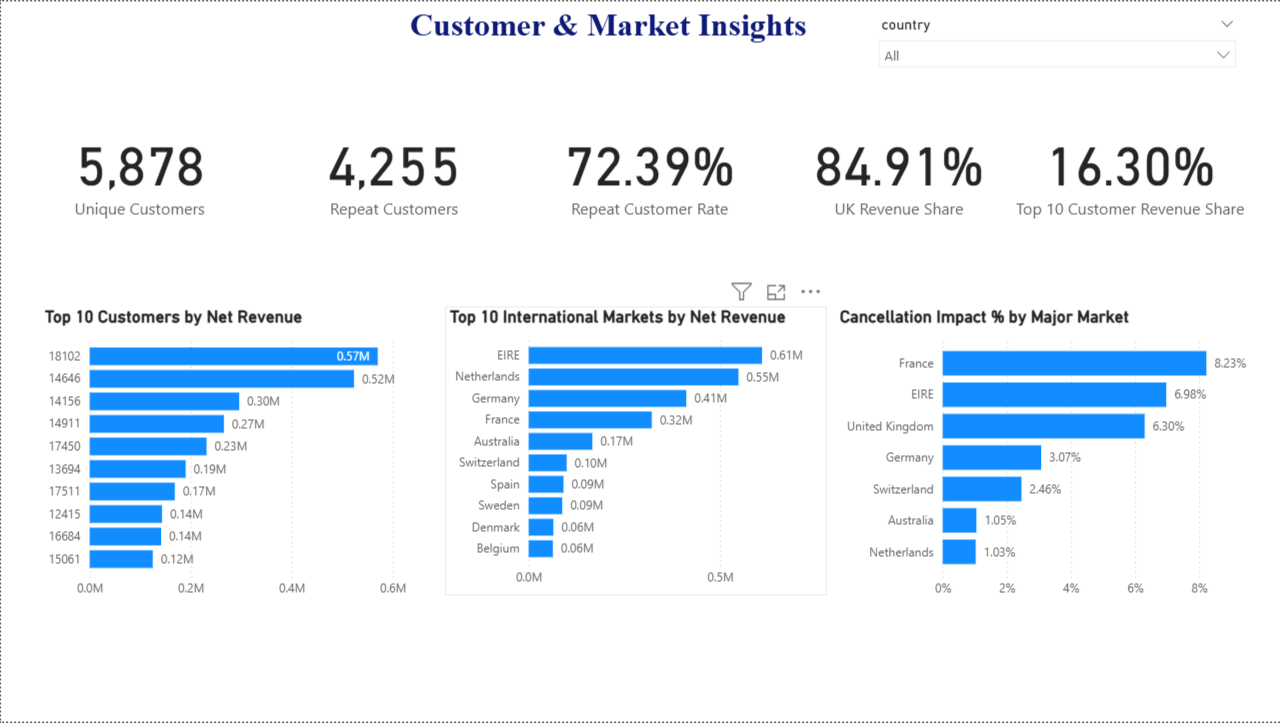

The page's visual inventory and layout, read from the dashboard file:
{"tool":"powerbi","page":{"name":"Customer & Market Insights","canvas":[1280,720],"ordinal":2},"visuals":[{"type":"card","fields":{"Values":["DimCountry.Unique Customers"]},"box":[10,107.5,257.5,122.5],"z":0},{"type":"card","fields":{"Values":["DimCountry.Repeat Customers"]},"box":[267.5,107.5,251.2,122.5],"z":1000},{"type":"card","fields":{"Values":["DimCountry.Repeat Customer Rate"]},"box":[518.8,107.5,260,122.5],"z":2000},{"type":"textbox","box":[403.8,0,443.8,97.5],"z":3000},{"type":"barChart","title":"Top 10 Customers by Net Revenue","fields":{"Category":["DimCustomer.customer_id"],"Y":["DimCountry.Net Revenue"]},"box":[38.8,305,395,300],"z":4000},{"type":"barChart","title":"Top 10 International Markets by Net Revenue","fields":{"Category":["DimCountry.country"],"Y":["DimCountry.International Net Revenue"]},"box":[443.8,305,381.2,288.8],"z":5000},{"type":"card","fields":{"Values":["DimCountry.UK Revenue Share"]},"box":[778.8,107.5,238.8,122.5],"z":6000},{"type":"card","fields":{"Values":["DimCountry.Top 10 Customer Revenue Share"]},"box":[997.5,107.5,263.8,122.5],"z":7000},{"type":"clusteredBarChart","title":"Cancellation Impact % by Major Market","fields":{"Category":["DimCustomer.country"],"Y":["DimCountry.Cancellation Impact %"]},"box":[833.8,305,427.5,300],"z":8000},{"type":"slicer","fields":{"Values":["DimCountry.country"]},"box":[867.5,10,377.5,66.2],"z":9000}]}

Visuals, with their boxes in screenshot pixels (x1, y1, x2, y2), scaled from the page's 1280x720 canvas onto the 1280x723 screenshot:
card - DimCountry.Unique Customers: x1=10 y1=108 x2=268 y2=231
card - DimCountry.Repeat Customers: x1=268 y1=108 x2=519 y2=231
card - DimCountry.Repeat Customer Rate: x1=519 y1=108 x2=779 y2=231
textbox: x1=404 y1=0 x2=848 y2=98
"Top 10 Customers by Net Revenue" barChart: x1=39 y1=306 x2=434 y2=608
"Top 10 International Markets by Net Revenue" barChart: x1=444 y1=306 x2=825 y2=596
card - DimCountry.UK Revenue Share: x1=779 y1=108 x2=1018 y2=231
card - DimCountry.Top 10 Customer Revenue Share: x1=998 y1=108 x2=1261 y2=231
"Cancellation Impact % by Major Market" clusteredBarChart: x1=834 y1=306 x2=1261 y2=608
slicer - DimCountry.country: x1=868 y1=10 x2=1245 y2=77
